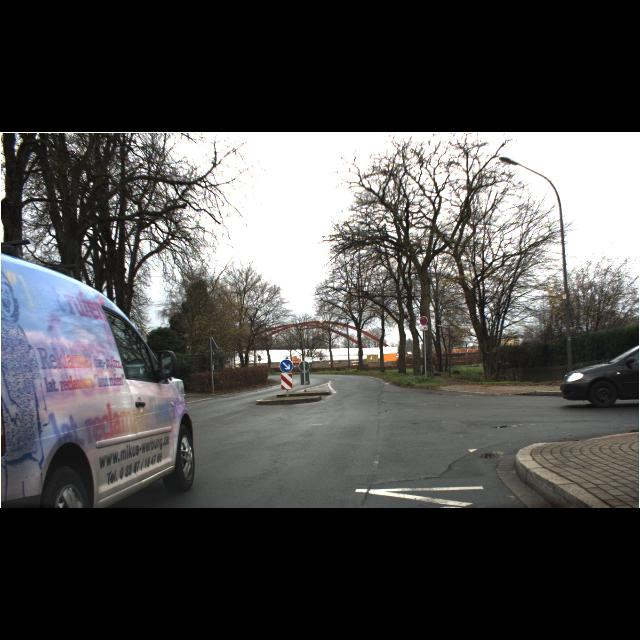mandatory: (279, 359, 293, 373)
